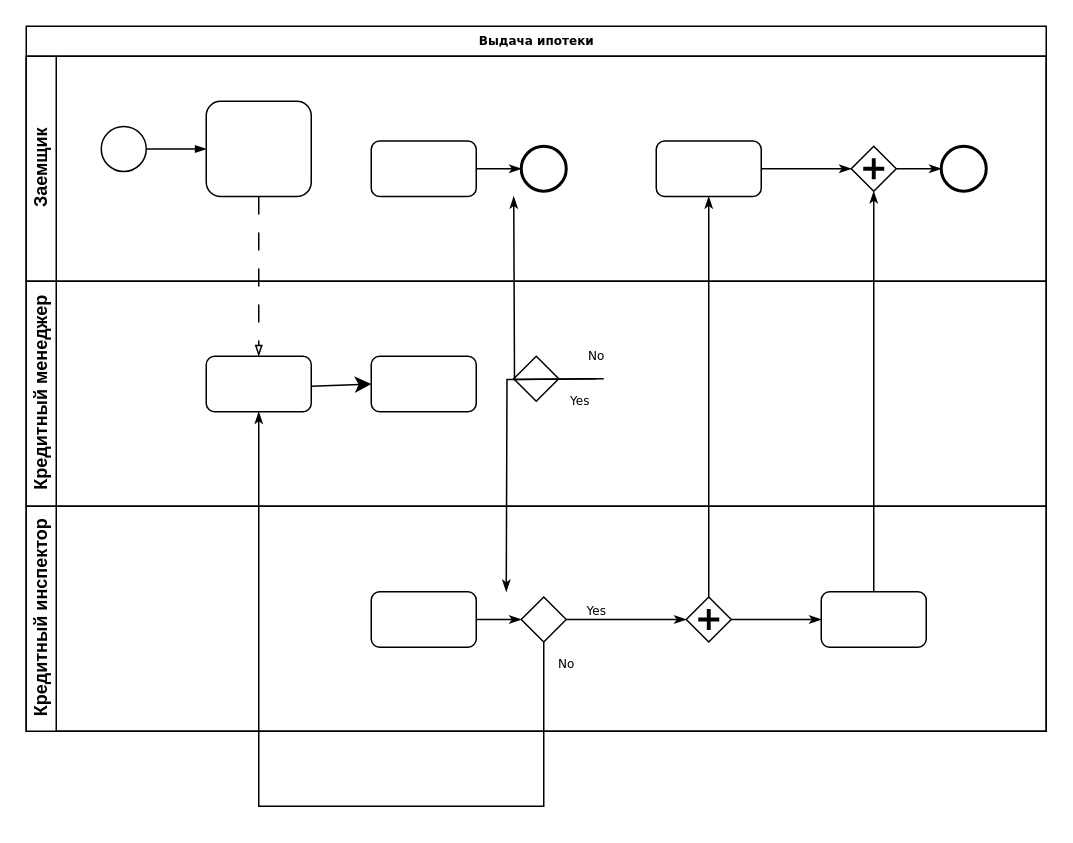
Some shapes in this 1073 by 843 pixel diagram are drawn without their labels. The shapes that lost their labels are listed below. From the top down, each one's centre as x and y in pixels, then its label:
pixel 258 148: Подача заявки на ипотеку
pixel 258 383: Полученное обращение клиента
